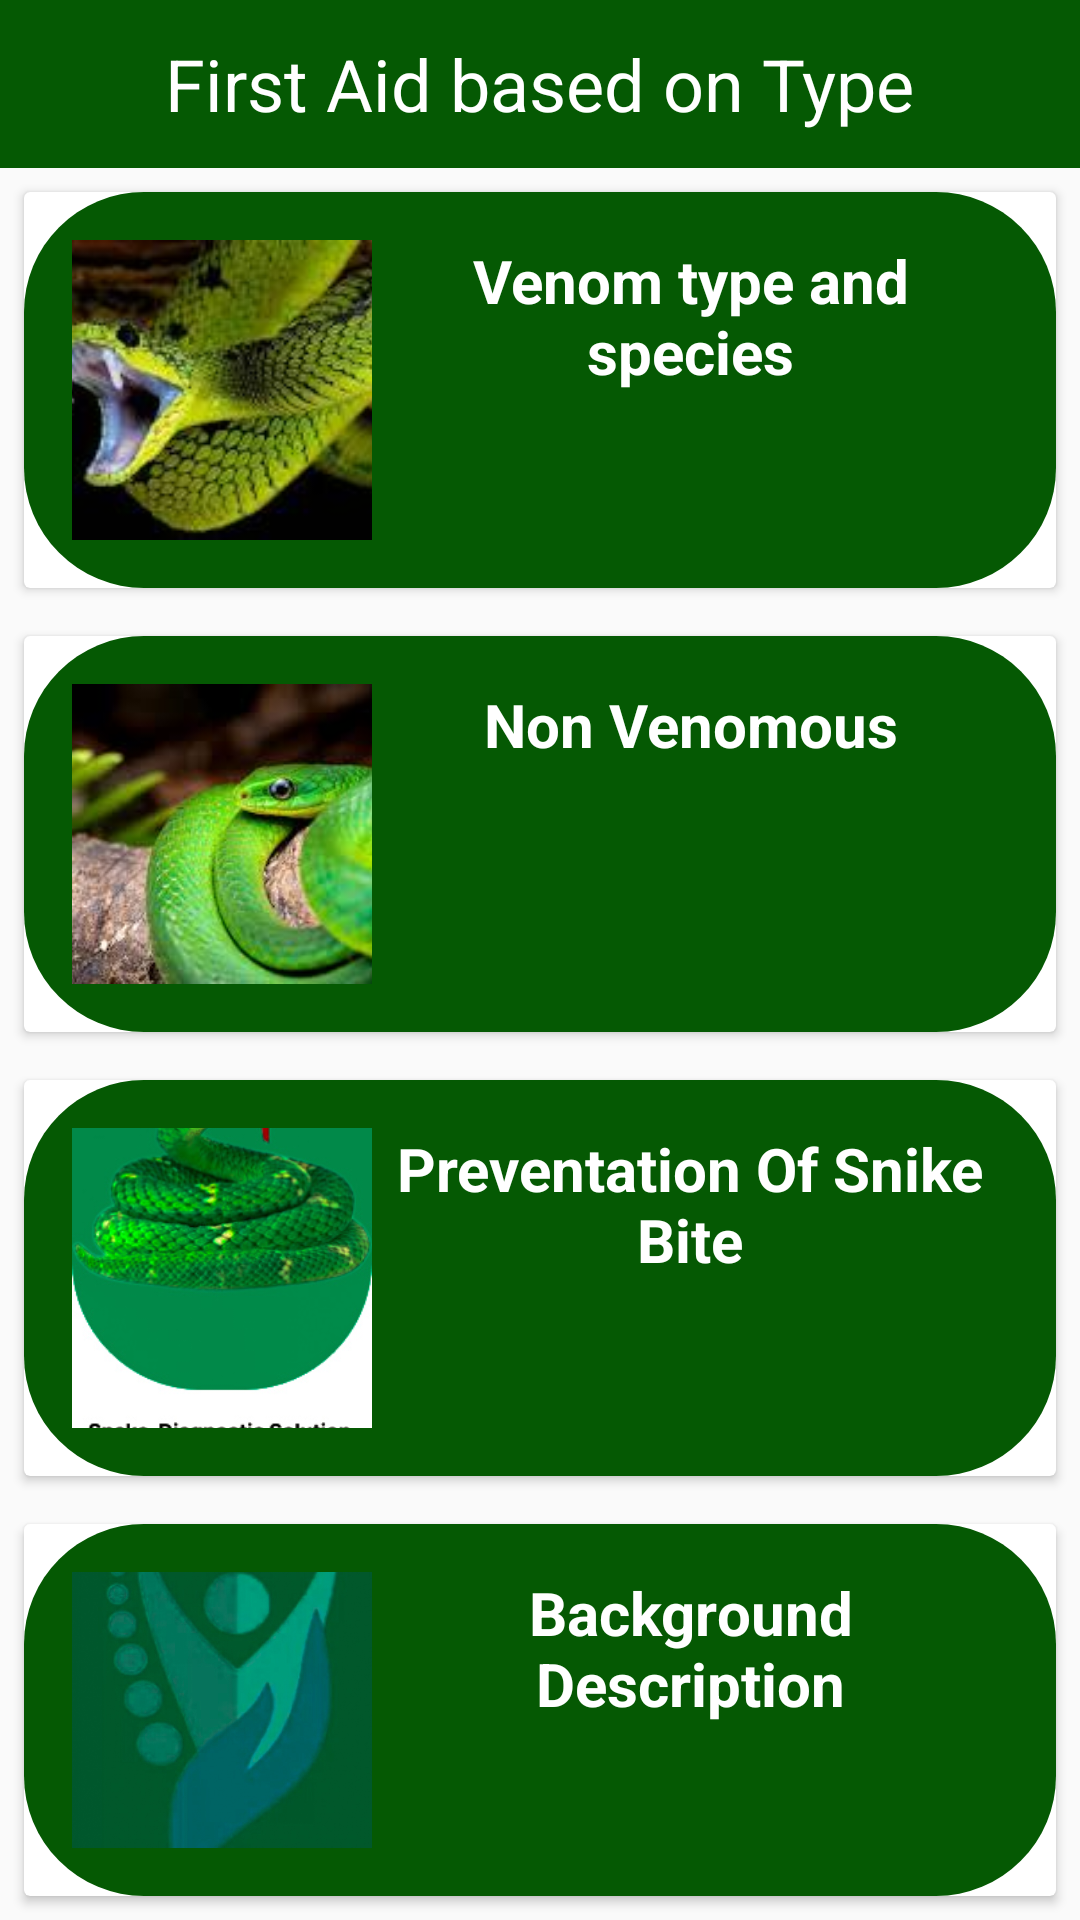

Named icons in this screenshot (1080px×1920px) and their bounding boxes, bbox(x1, y1, x2, y2):
venmous: bbox(72, 240, 372, 540)
